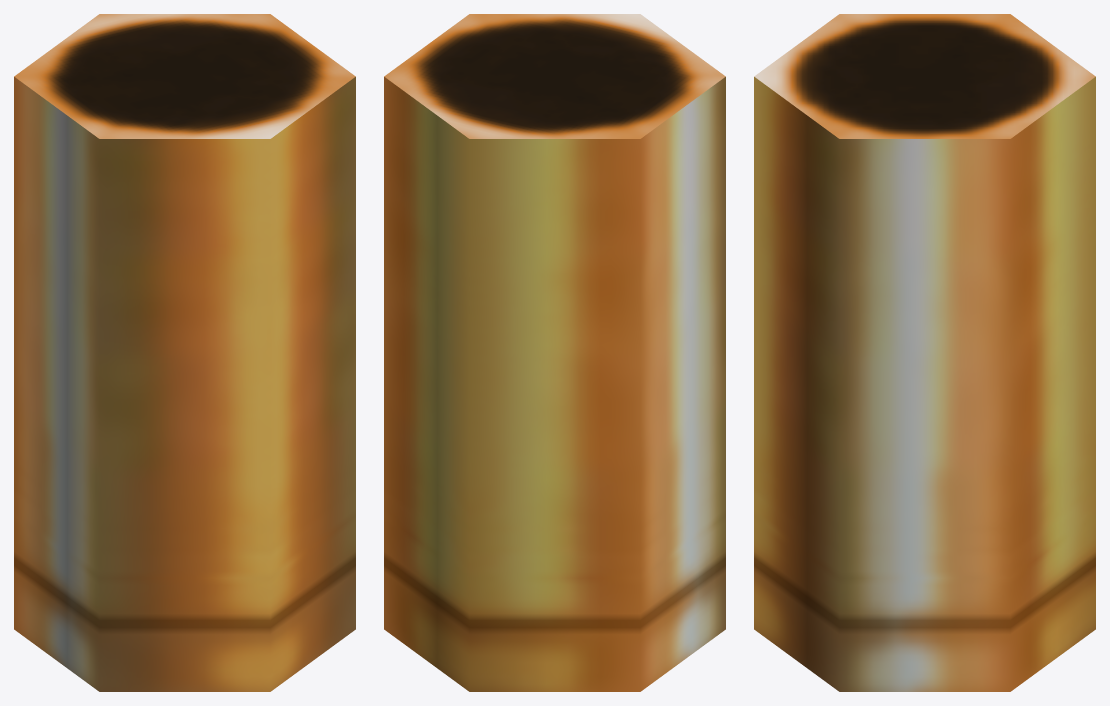
The model's file is Pistol_shell.fbx.
The picture shows the model from 3 angles, left to right: view 1: azimuth 30°, elevation 25°; view 2: azimuth 150°, elevation 25°; view 3: azimuth 270°, elevation 25°; orthographic projection.
Parts seen in each view (by area): view 1: Regroup04; view 2: Regroup04; view 3: Regroup04.
Part boxes in pixels (bbox=[...]): Regroup04: bbox=[14, 14, 355, 691]; Regroup04: bbox=[384, 14, 725, 691]; Regroup04: bbox=[754, 14, 1095, 691].
Size of the model in its own units: 2.82 by 5.81 by 3.26.
Materials: 1 (1 with a texture image).
